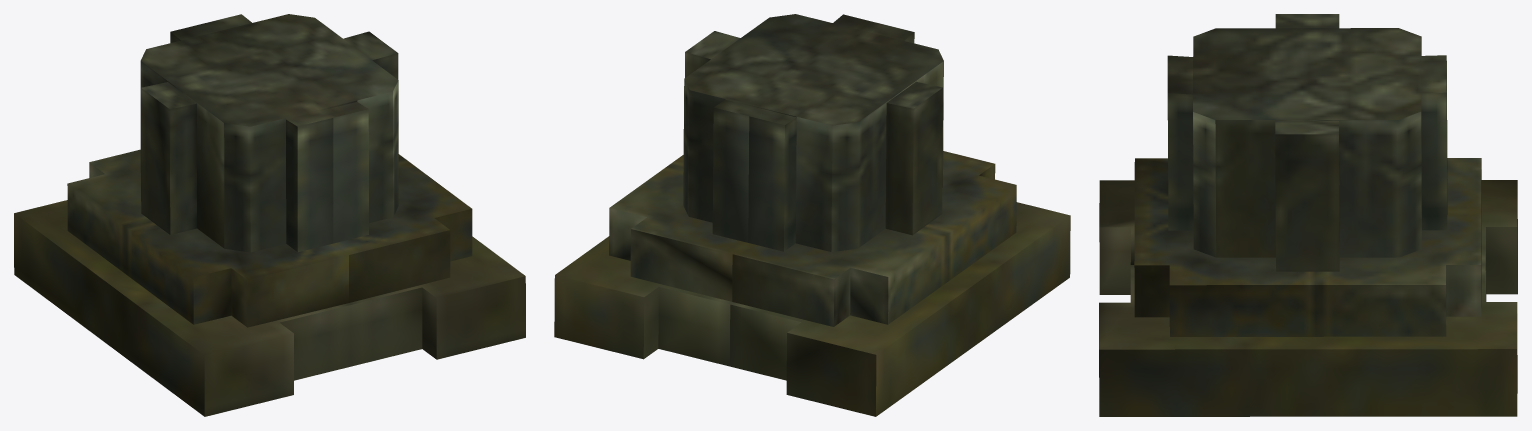
The model's file is fxmg_lizhu_old4.FBX.
3 renders of one model, left to right at view 1: azimuth 30°, elevation 25°; view 2: azimuth 150°, elevation 25°; view 3: azimuth 270°, elevation 25°, orthographic. The views are drawn at different scales.
Visible parts, largest first — view 1: KLMSM_lizhu_old4; view 2: KLMSM_lizhu_old4; view 3: KLMSM_lizhu_old4.
Part boxes in pixels (box(x1,y1,x2,y2)): KLMSM_lizhu_old4: box(14, 14, 525, 416); KLMSM_lizhu_old4: box(554, 14, 1070, 416); KLMSM_lizhu_old4: box(1099, 14, 1517, 416).
Size of the model in its own units: 94.35 by 66.59 by 97.51.
